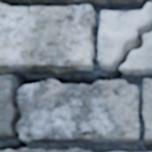brick: (0, 0, 143, 72), (144, 79, 151, 144), (18, 148, 89, 151)
broken_brick: (18, 79, 141, 144), (98, 2, 151, 71), (123, 35, 151, 76), (0, 74, 16, 141)
crack: (0, 17, 151, 151)
